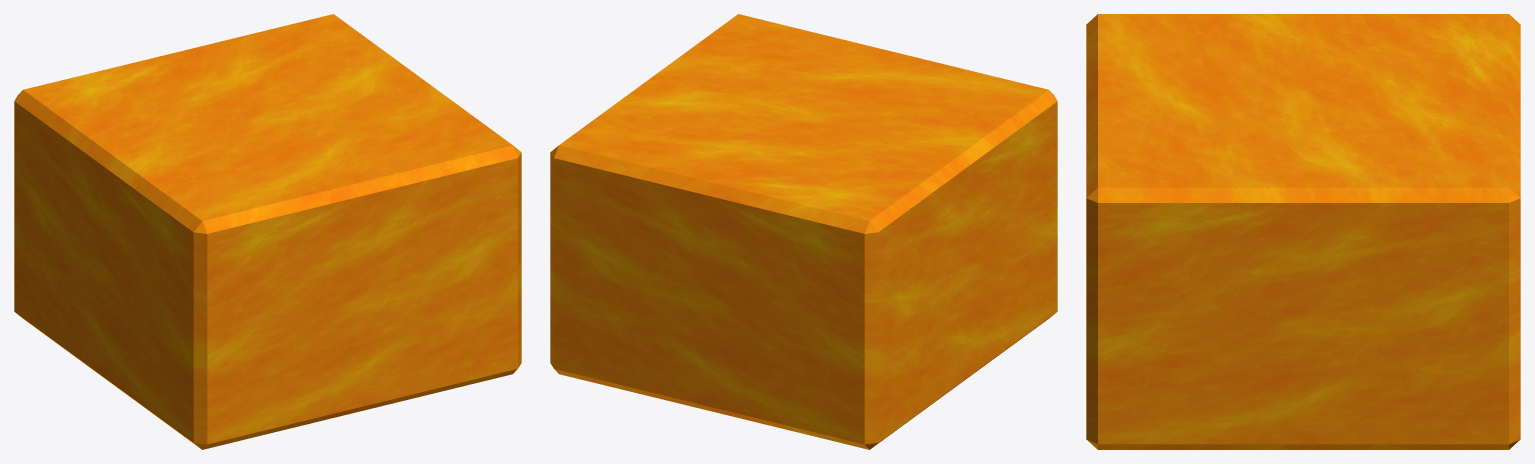
Rendered from mango_cube-7xlAGaHY.glb.
3 renders of one model, left to right at view 1: azimuth 30°, elevation 25°; view 2: azimuth 150°, elevation 25°; view 3: azimuth 270°, elevation 25°, orthographic. The views are drawn at different scales.
Visible parts, largest first — view 1: HI_mango_cube; view 2: HI_mango_cube; view 3: HI_mango_cube.
Boxes of the visible parts, x1,y1,x2,y2 form: HI_mango_cube: (14,14,521,449); HI_mango_cube: (550,14,1057,449); HI_mango_cube: (1086,14,1520,449).
Bounding box in the file's own units: 0.3 × 0.2 × 0.3.
Materials: 1 (1 with a texture image).
